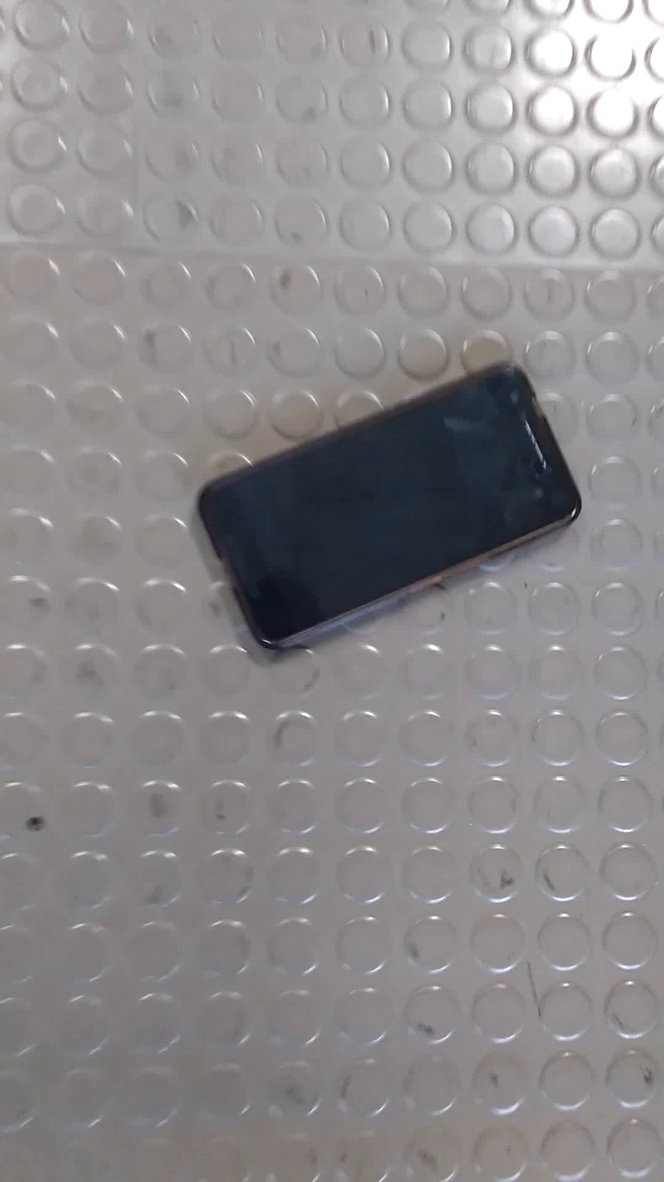phone: (180, 340, 605, 673)
